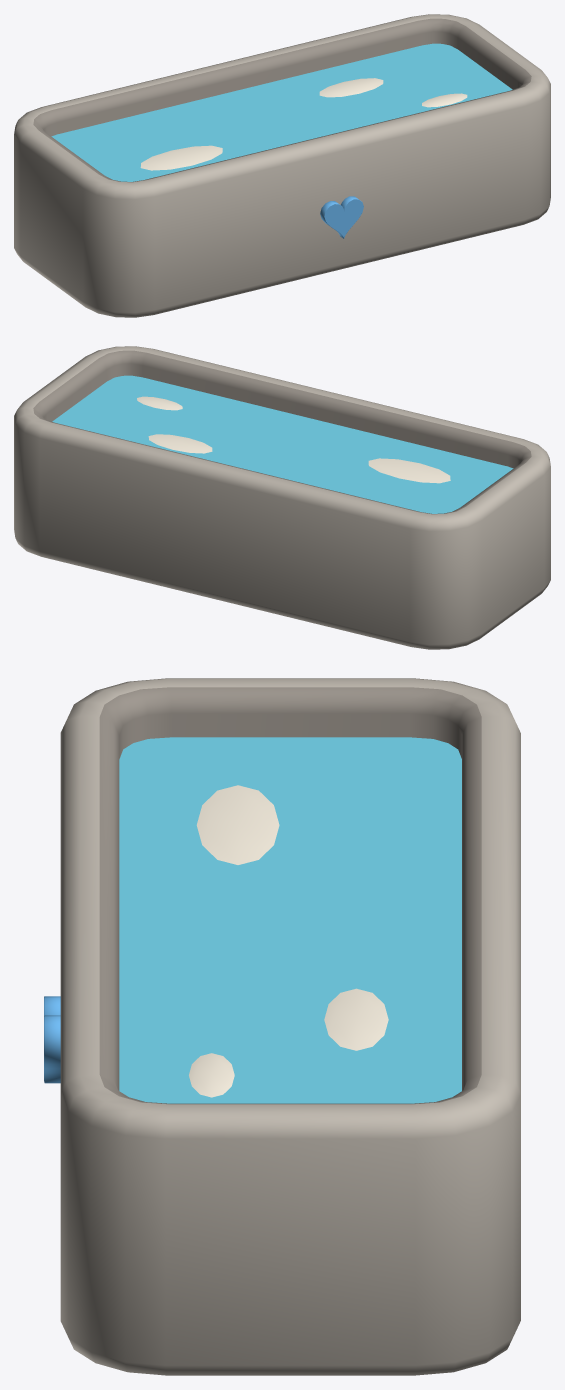
File: prop_water_trough.glb
3 views of the same model, one above another, from view 1: azimuth 30°, elevation 25°; view 2: azimuth 150°, elevation 25°; view 3: azimuth 270°, elevation 25° (orthographic). The views are drawn at different scales.
Parts seen in each view (by area): view 1: prop_water_trough; view 2: prop_water_trough; view 3: prop_water_trough.
Boxes of the visible parts, bbox=[...] form: prop_water_trough: bbox=[14, 14, 550, 317]; prop_water_trough: bbox=[14, 346, 550, 649]; prop_water_trough: bbox=[44, 678, 520, 1375].
Bounding box in the file's own units: 1.62 × 0.44 × 0.725.
